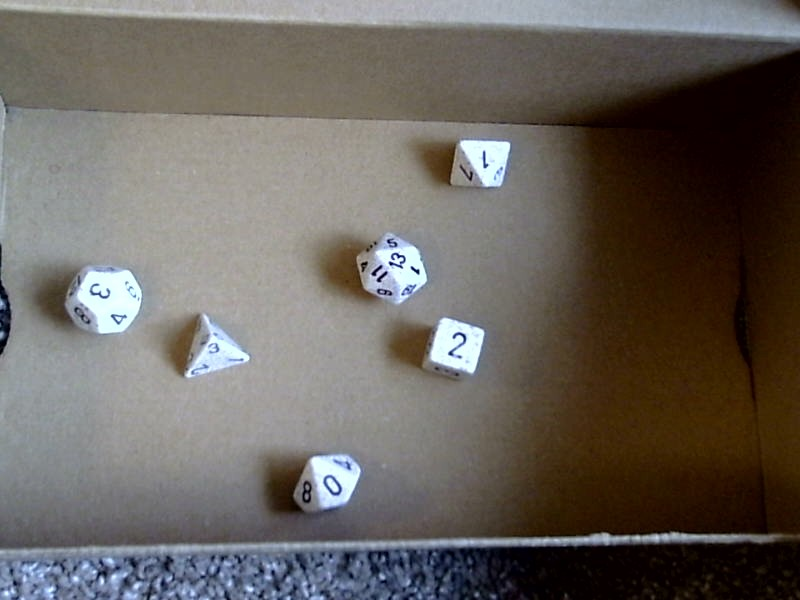d10 10: (288, 449, 364, 515)
d12 3: (56, 253, 149, 341)
d20 13: (347, 223, 431, 308)
d4 3: (173, 305, 254, 383)
d6 2: (418, 313, 489, 384)
d8 1: (443, 129, 514, 196)
